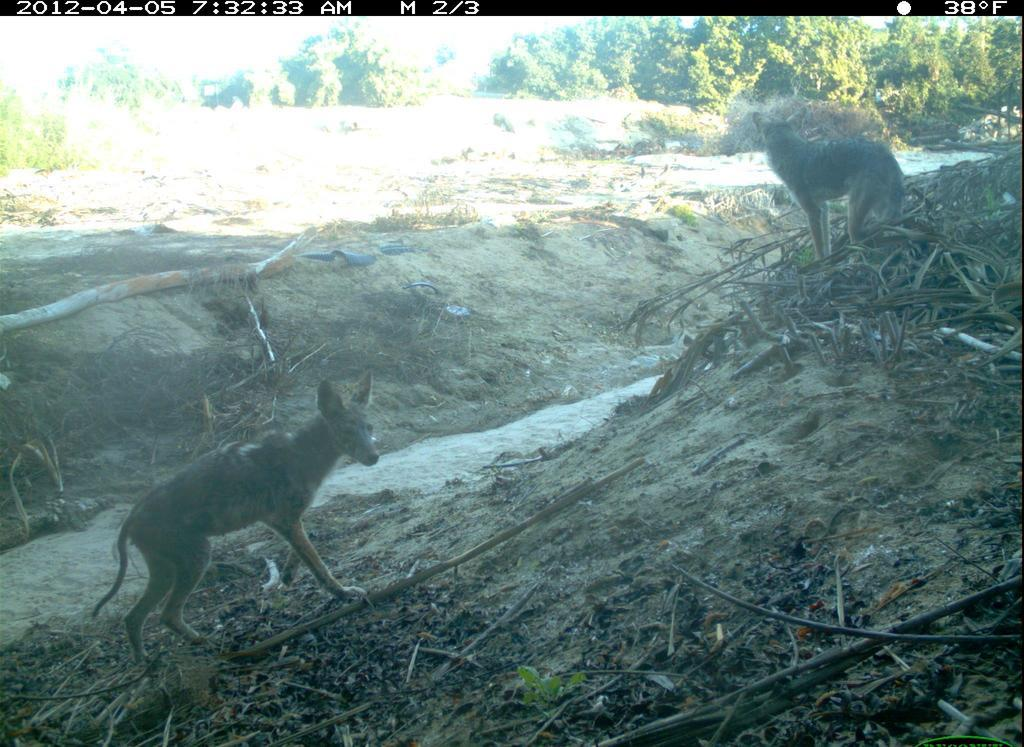coyote: (91, 369, 392, 662), (745, 104, 914, 269)
